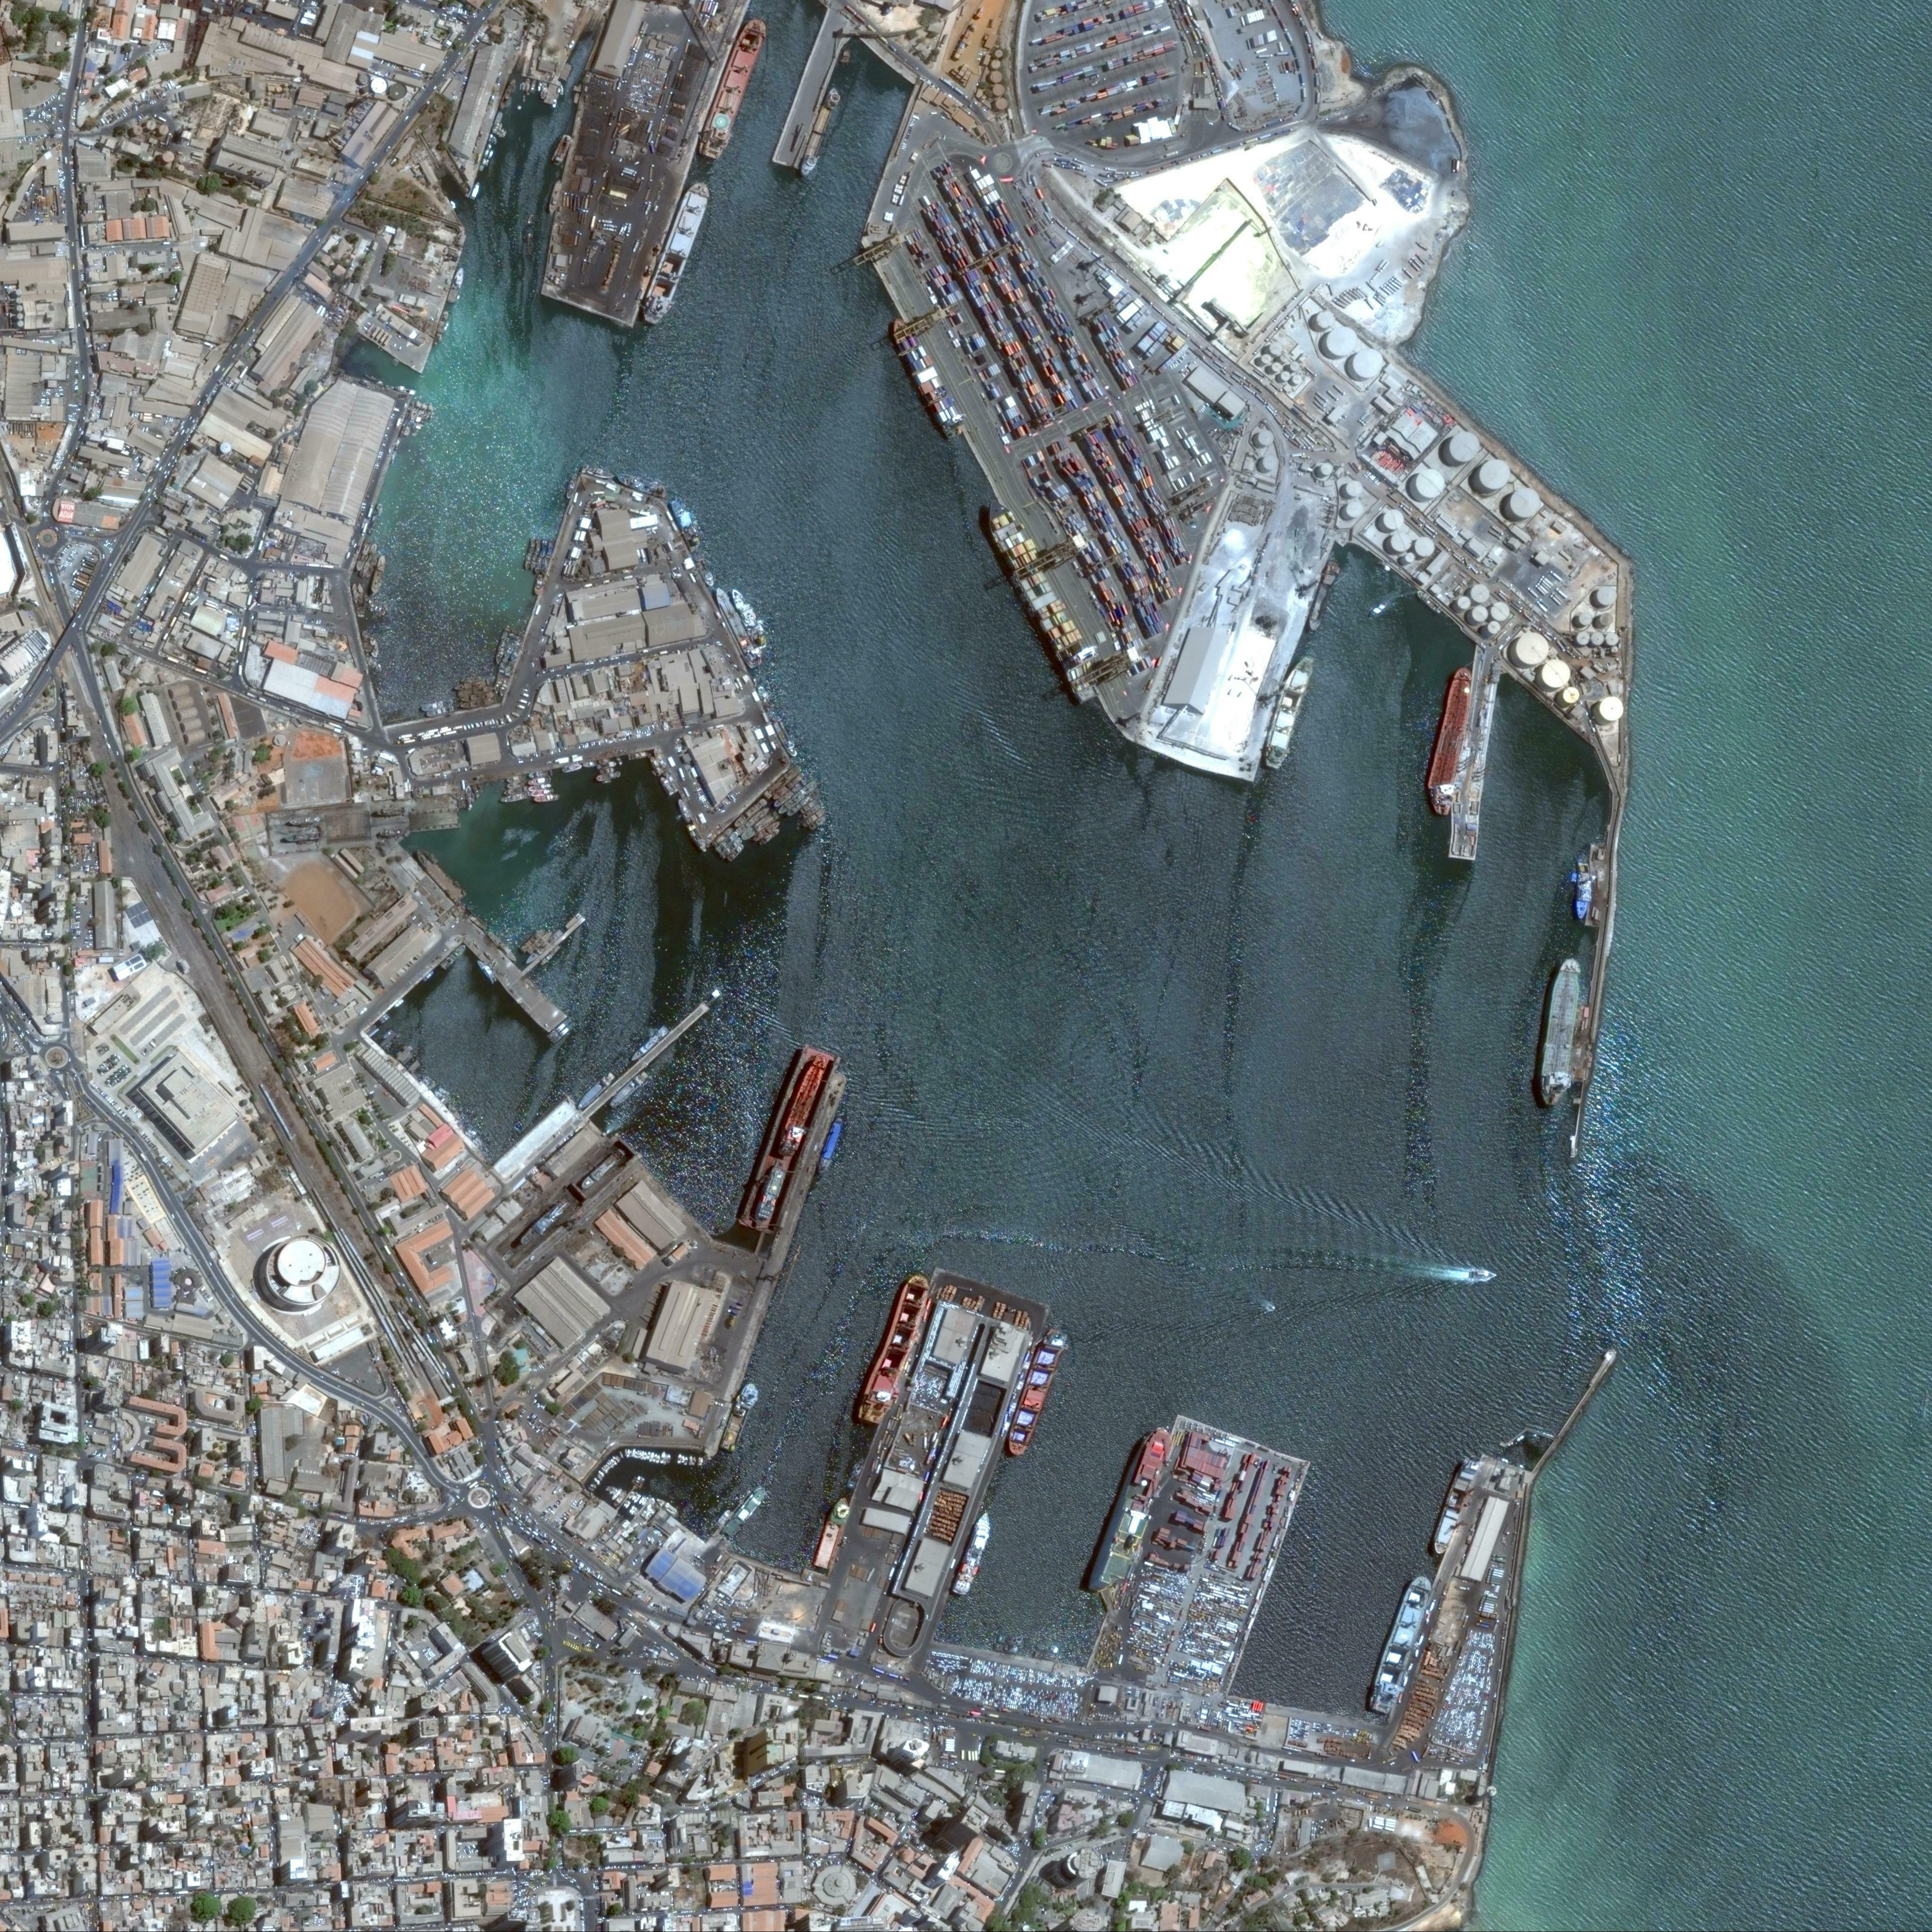harbor: (580, 1000, 711, 1118), (770, 1070, 849, 1261), (771, 7, 856, 172), (1445, 644, 1504, 860), (1530, 1348, 1619, 1476), (520, 915, 587, 977)
ship: (975, 495, 1102, 706), (1085, 1422, 1177, 1599), (855, 1270, 934, 1426), (637, 179, 718, 327), (694, 12, 773, 161), (885, 315, 966, 441), (1000, 1327, 1072, 1461), (1366, 1573, 1433, 1714), (1421, 667, 1474, 817), (1536, 955, 1585, 1109), (1261, 653, 1318, 771), (777, 1051, 830, 1159), (1426, 1456, 1481, 1555), (709, 586, 766, 671), (794, 83, 844, 179), (952, 1511, 994, 1596), (412, 844, 469, 906), (812, 1495, 853, 1571), (727, 584, 771, 651), (518, 1196, 573, 1249), (720, 1380, 761, 1451), (1306, 557, 1343, 633), (720, 1483, 768, 1539), (754, 1159, 791, 1221), (580, 1146, 626, 1194), (669, 499, 704, 554), (607, 1070, 651, 1111), (573, 1072, 617, 1113), (522, 927, 564, 966), (817, 1115, 844, 1175), (763, 763, 805, 800), (630, 1024, 669, 1063), (777, 780, 816, 817), (1573, 853, 1594, 920), (740, 809, 782, 842), (616, 471, 667, 497), (771, 717, 803, 759), (485, 929, 520, 964), (771, 775, 809, 809), (732, 798, 768, 830), (738, 805, 773, 835), (787, 787, 819, 819), (771, 771, 805, 801), (755, 683, 780, 724), (692, 552, 718, 589), (550, 133, 575, 166), (518, 927, 548, 954), (685, 823, 709, 855), (844, 1456, 867, 1490), (370, 554, 387, 596), (525, 929, 554, 955), (752, 819, 784, 842), (446, 267, 465, 304), (550, 1019, 577, 1046), (441, 943, 467, 970), (545, 1016, 573, 1040), (580, 462, 616, 481), (474, 957, 499, 984), (1417, 589, 1444, 614), (499, 76, 518, 110), (495, 625, 511, 665), (800, 807, 826, 830), (281, 830, 322, 844), (718, 835, 743, 858), (715, 830, 740, 853), (655, 1495, 679, 1518), (363, 541, 379, 577), (1366, 598, 1392, 619), (356, 540, 372, 573), (711, 824, 734, 847), (368, 502, 384, 534), (287, 814, 322, 828), (499, 663, 513, 699), (540, 945, 561, 968), (757, 826, 782, 846), (499, 791, 533, 805), (494, 662, 508, 695), (676, 798, 694, 824), (460, 697, 497, 709), (453, 679, 490, 692), (725, 842, 747, 863), (421, 699, 453, 713), (651, 747, 669, 771), (550, 179, 563, 214), (435, 308, 449, 338), (425, 704, 455, 718), (502, 632, 517, 662), (510, 633, 524, 663), (663, 771, 681, 794), (809, 814, 828, 833), (460, 692, 495, 702), (798, 796, 819, 814), (801, 801, 823, 819), (658, 775, 676, 796), (458, 686, 492, 697), (566, 472, 579, 501), (446, 1102, 464, 1122), (612, 1490, 630, 1509), (594, 771, 621, 784), (533, 793, 563, 803), (649, 755, 663, 777), (492, 110, 504, 133), (432, 1090, 449, 1106), (717, 1507, 732, 1525), (437, 1085, 453, 1102), (529, 787, 556, 798), (465, 784, 476, 810), (501, 786, 527, 796), (421, 403, 433, 425), (529, 770, 554, 780), (594, 759, 619, 770), (368, 637, 380, 658), (361, 628, 372, 653), (416, 402, 426, 423), (410, 400, 421, 421), (395, 386, 416, 396), (534, 573, 545, 594), (563, 763, 584, 773), (525, 232, 534, 257), (471, 180, 481, 200), (527, 784, 550, 793), (506, 775, 529, 784), (506, 780, 529, 789), (640, 1504, 655, 1518), (541, 557, 550, 579), (423, 968, 435, 982), (393, 998, 407, 1010), (612, 1486, 625, 1500), (527, 778, 552, 786), (626, 752, 651, 759), (540, 81, 548, 101), (529, 534, 538, 554), (483, 143, 494, 159), (524, 552, 533, 570), (382, 1028, 395, 1040), (357, 584, 364, 605), (534, 557, 543, 573), (600, 766, 616, 775), (582, 759, 598, 768), (479, 157, 488, 173), (541, 538, 548, 557), (350, 584, 357, 603), (380, 1014, 391, 1026), (534, 538, 541, 556), (524, 76, 531, 94), (531, 552, 538, 570), (379, 1012, 389, 1023), (359, 1005, 370, 1016), (547, 541, 554, 557), (573, 90, 580, 104), (617, 1449, 626, 1460), (593, 1476, 602, 1486), (628, 1490, 635, 1502), (531, 80, 536, 94), (527, 214, 534, 225), (632, 1491, 639, 1502), (662, 1451, 667, 1465), (642, 1495, 649, 1506), (633, 1493, 640, 1504), (600, 1467, 610, 1474), (609, 1486, 616, 1497), (678, 1453, 683, 1465), (649, 1451, 655, 1463), (688, 1454, 694, 1467), (697, 1456, 704, 1465), (610, 1458, 619, 1465), (632, 1507, 639, 1516), (598, 1468, 605, 1477), (639, 1495, 646, 1504), (667, 1453, 672, 1463), (552, 97, 557, 108), (656, 1454, 662, 1465), (653, 1453, 658, 1463), (630, 1504, 635, 1514), (692, 1456, 697, 1467), (607, 1461, 614, 1468), (605, 1484, 612, 1491), (623, 1499, 628, 1507), (626, 1500, 632, 1509), (605, 1463, 612, 1468), (681, 1454, 685, 1465), (642, 1453, 648, 1460), (632, 1447, 635, 1458), (626, 1447, 630, 1458), (648, 1451, 651, 1460), (685, 1456, 688, 1465), (637, 1451, 640, 1458)
